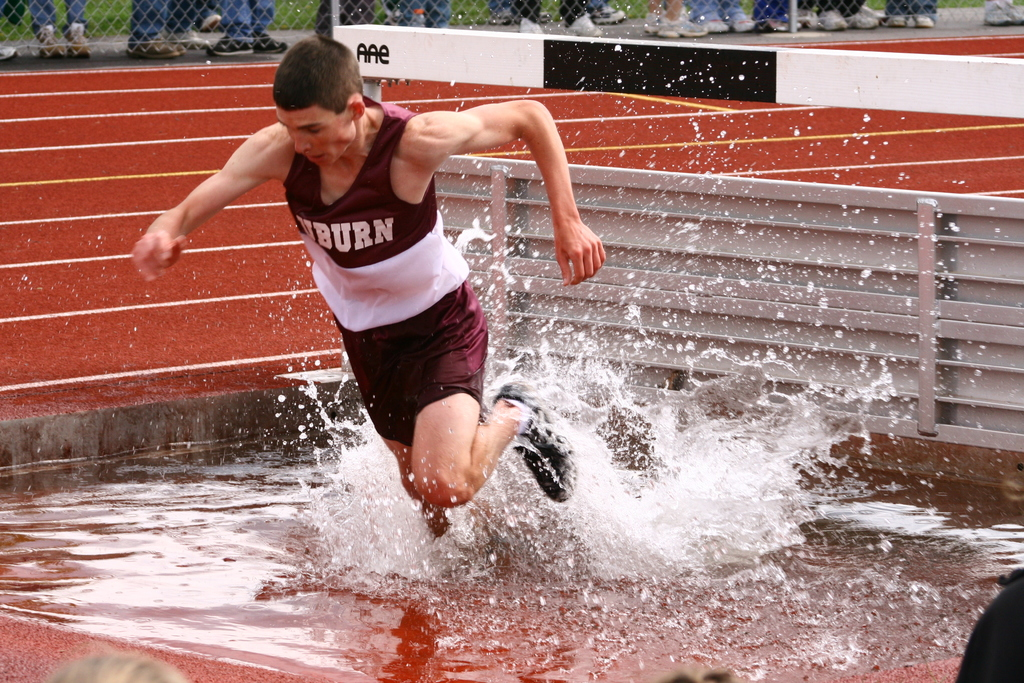Person: (128, 31, 608, 543), (0, 0, 1024, 62)
